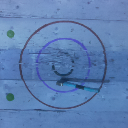Axe Tip: (60, 77, 69, 81)
